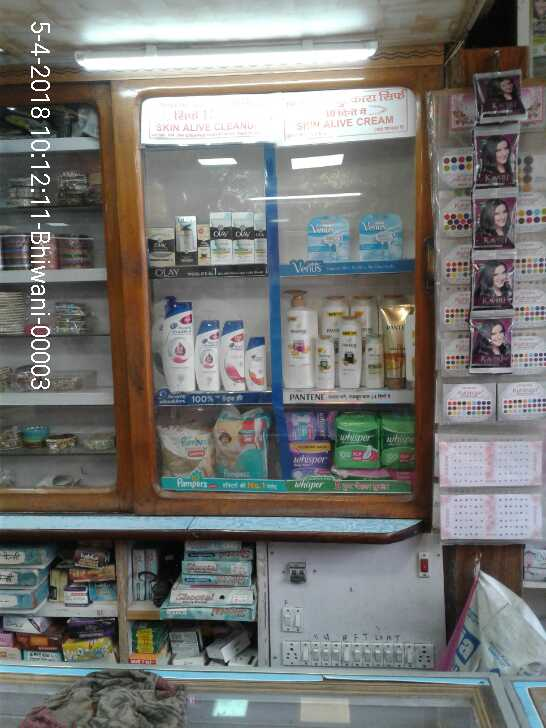venus: (359, 213, 403, 262), (309, 215, 350, 265)
